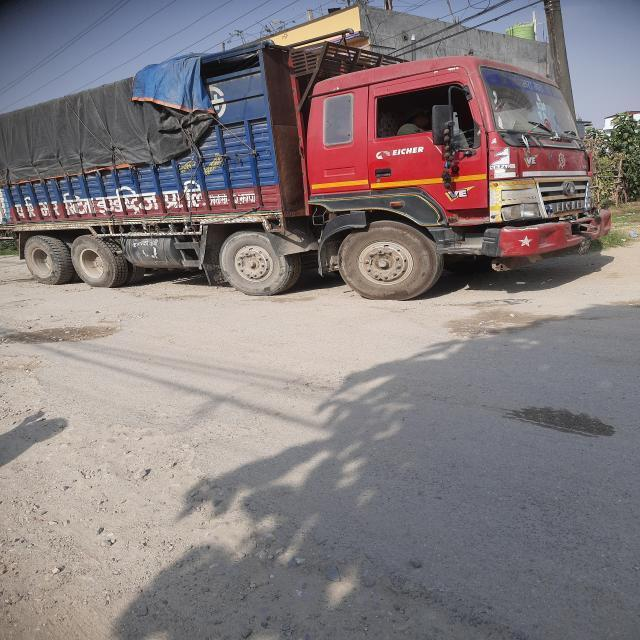truck_front: (0, 0, 602, 307)
